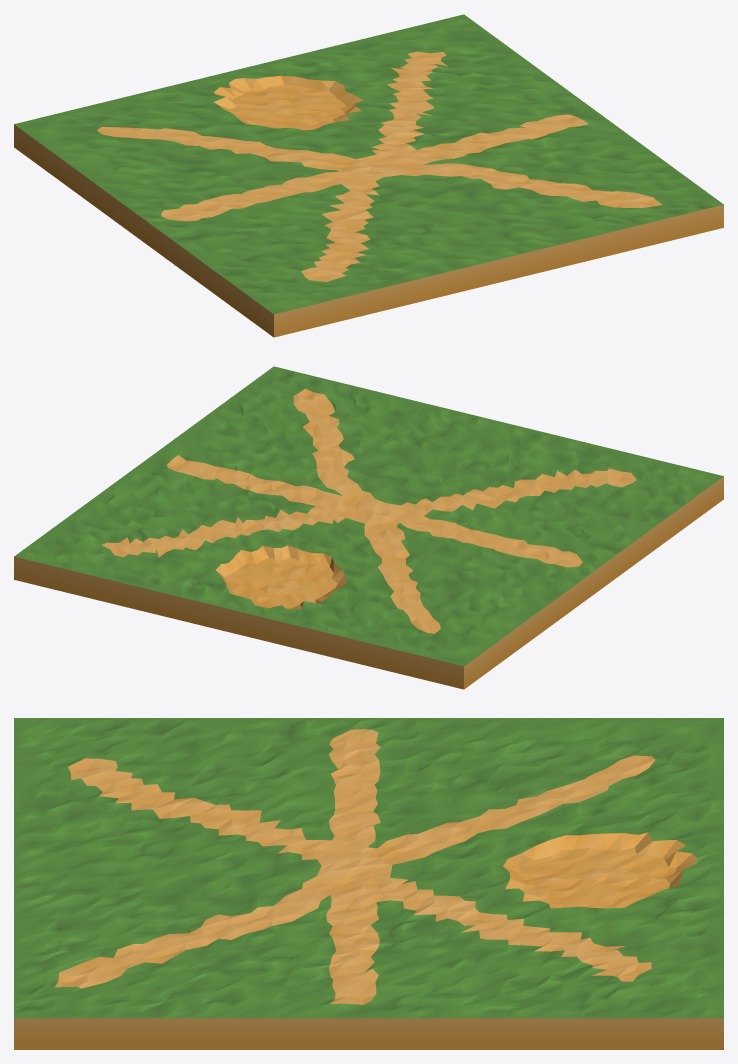
The model's file is Ground.fbx.
3 renders of one model, top to bottom at view 1: azimuth 30°, elevation 25°; view 2: azimuth 150°, elevation 25°; view 3: azimuth 270°, elevation 25°, orthographic. The views are drawn at different scales.
Parts seen in each view (by area): view 1: BattleGround; view 2: BattleGround; view 3: BattleGround.
Part boxes in pixels (<box>): BattleGround: <box>14,14,723,337</box>; BattleGround: <box>14,366,723,689</box>; BattleGround: <box>14,718,723,1049</box>.
Size of the model in its own units: 10000 by 516 by 10001.
Materials: 1 (1 with a texture image).
